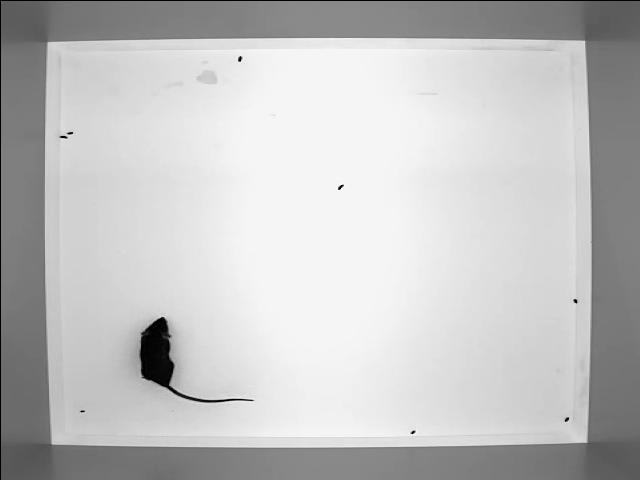Tikus: (136, 314, 258, 408)
